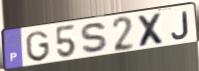2: (110, 14, 135, 55)
5: (54, 23, 77, 61)
G: (24, 29, 52, 63)
J: (170, 10, 190, 41)
S: (79, 22, 111, 55)
X: (136, 12, 167, 49)
